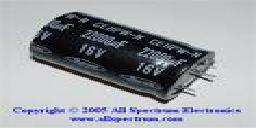Electrolytic-Capacitor: (28, 8, 220, 107)
